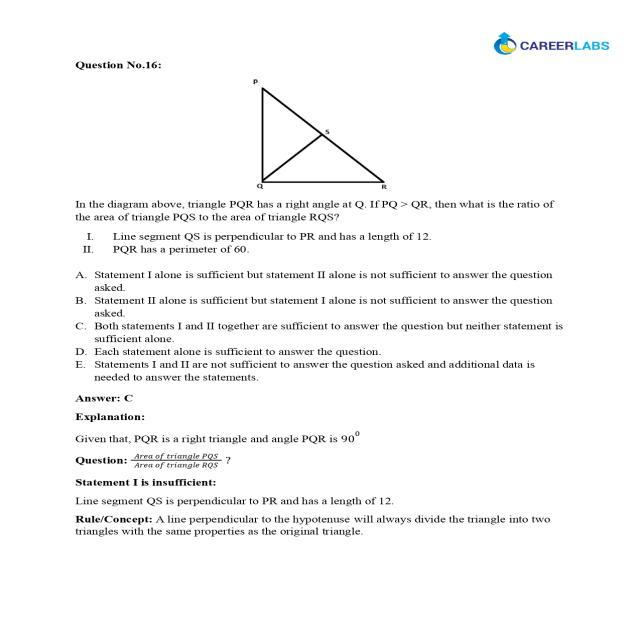Answer_Block: (64, 262, 574, 388)
Description: (64, 388, 574, 548)
Question_Answer_Block: (64, 59, 574, 388)
Question_Block: (64, 58, 574, 262)
Question_Paper_Area: (64, 59, 574, 548)
